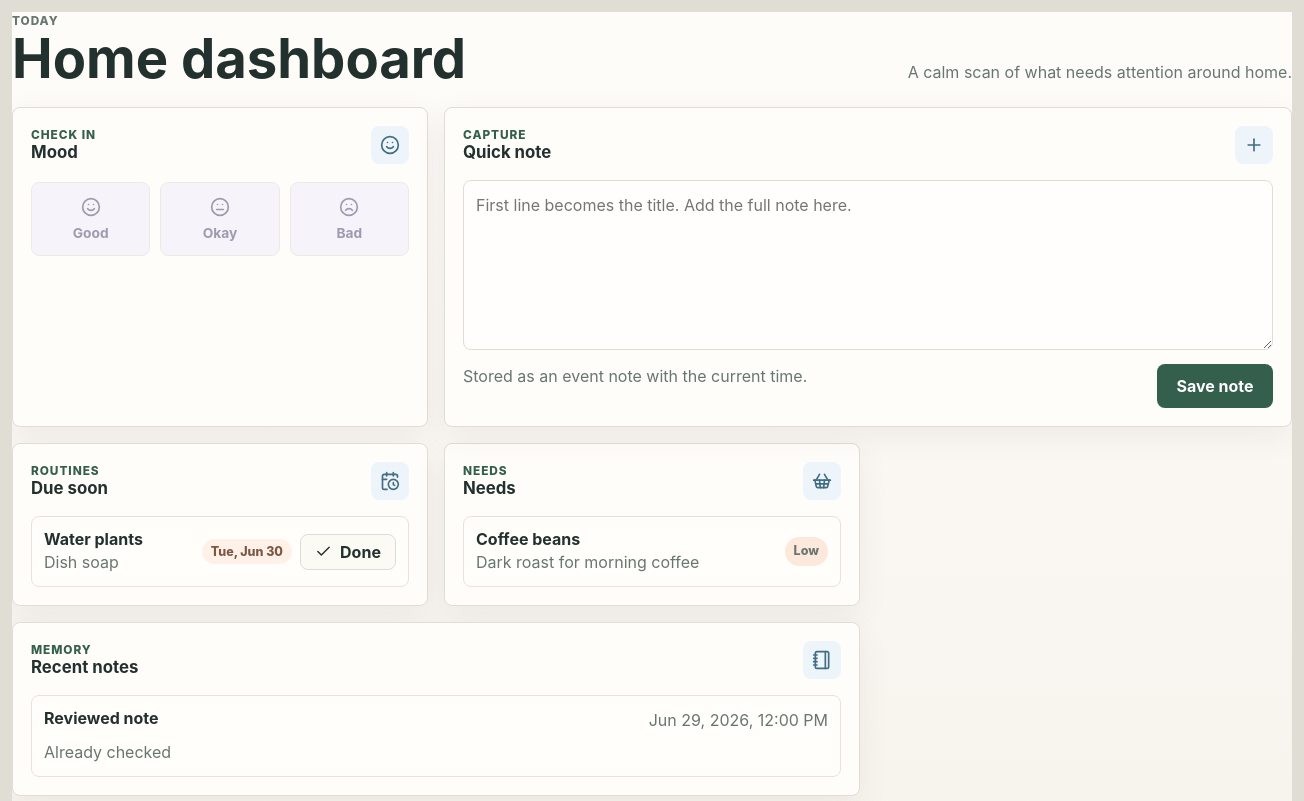
it: Quick Capture form › typing text enables a successful save and clears the input
Step 1. Type "Fresh note" into the text box with placeholder "First line becomes the title. Add the full note here." → [868, 265], box [463, 180, 1273, 350]
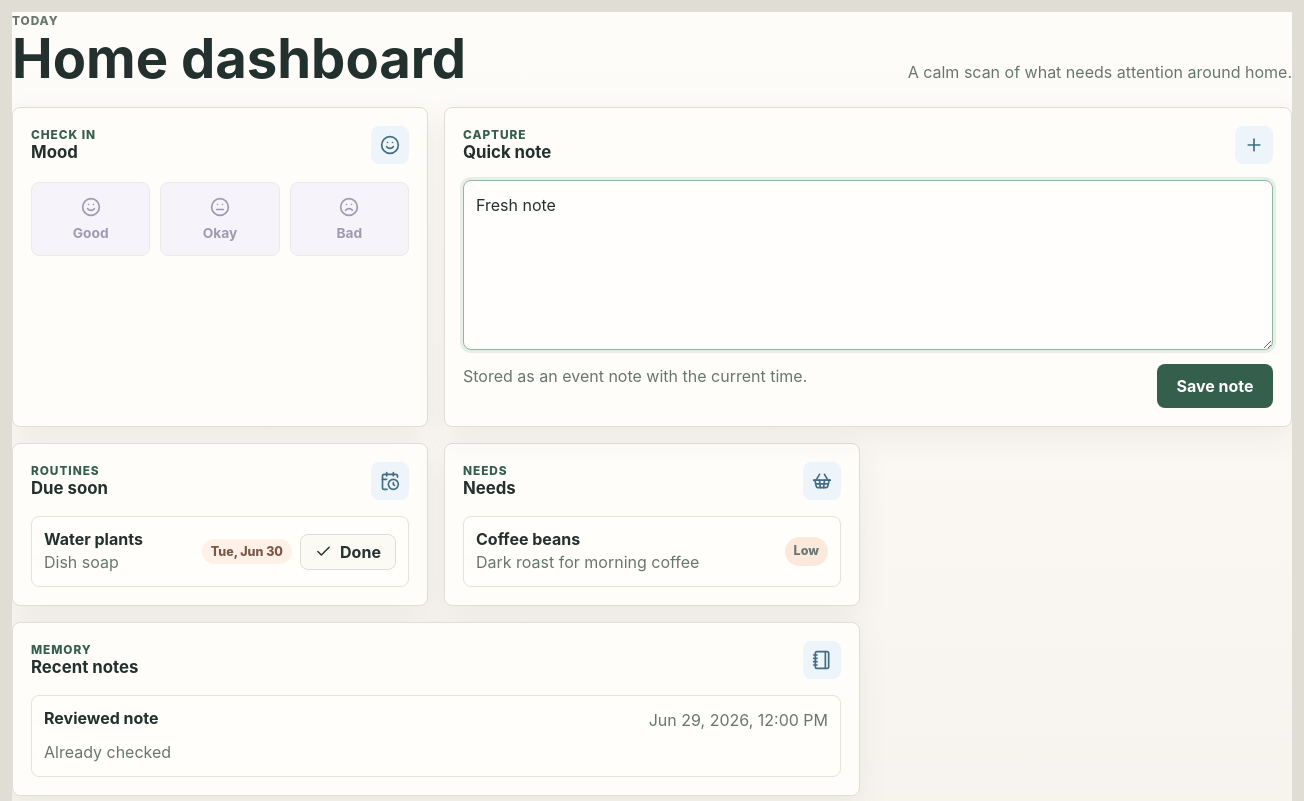
Step 2. Click the button "Save note" → [1215, 386], box [1157, 364, 1273, 408]
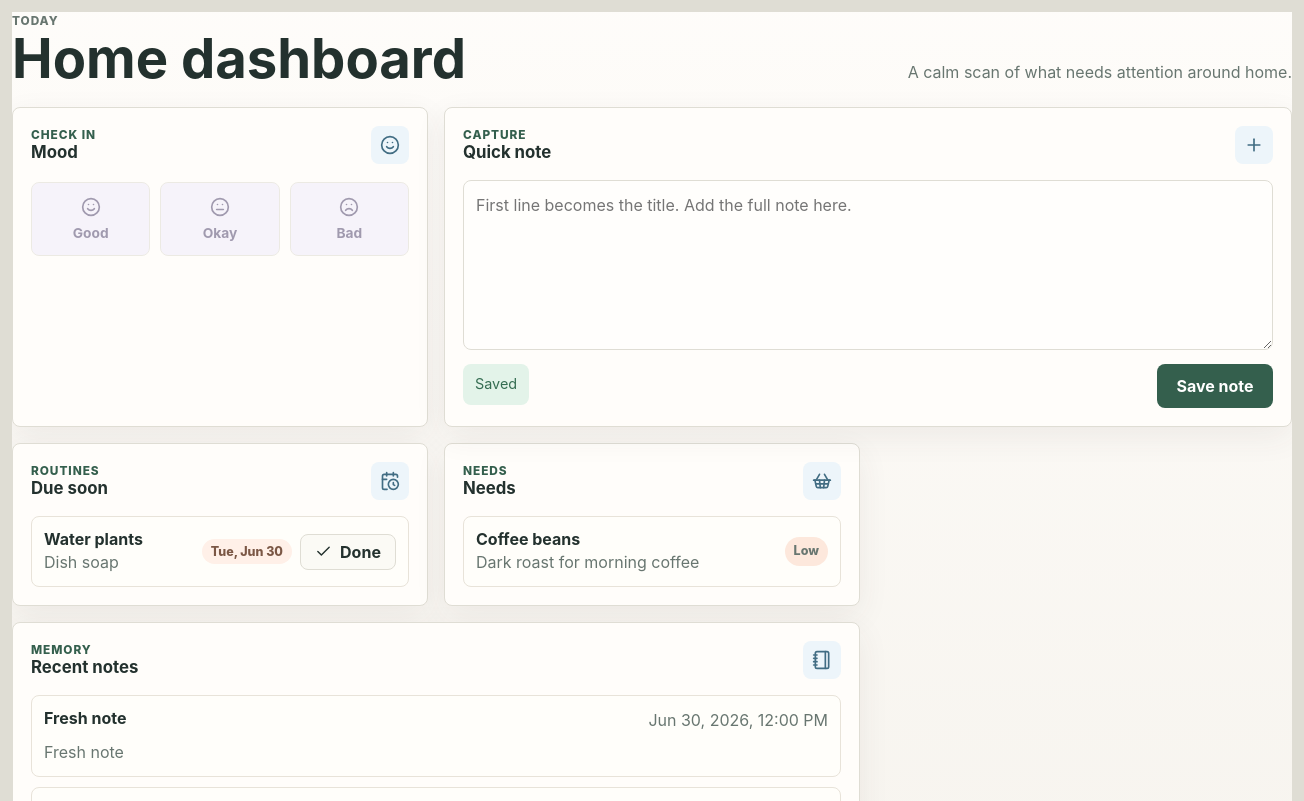
Expected: the text box with placeholder "First line becomes the title. Add the full note here." is empty, [463, 180, 1273, 350]
Expected: the text "Saved" is shown, [463, 364, 529, 404]
